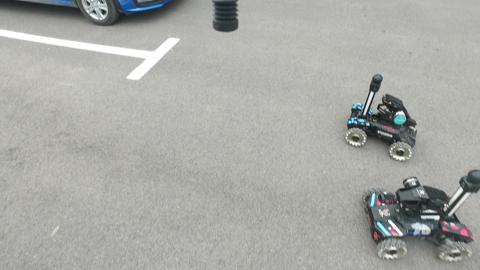chariot: (354, 167, 480, 270), (345, 65, 423, 164)
